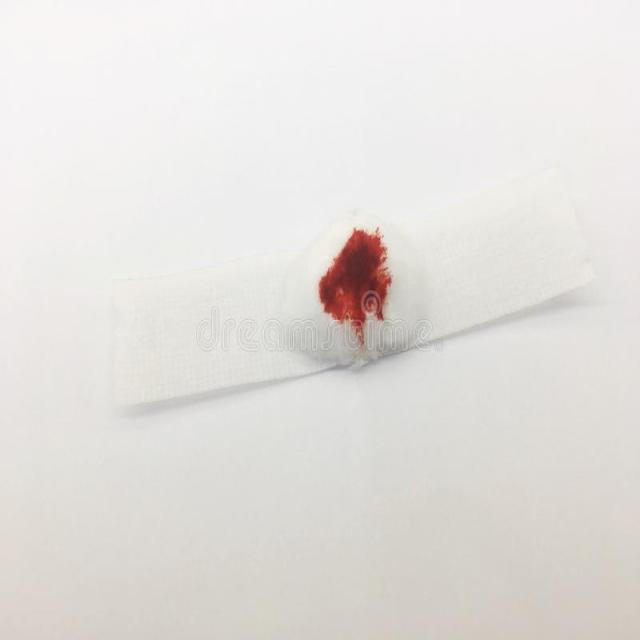B3: (272, 211, 426, 378)
